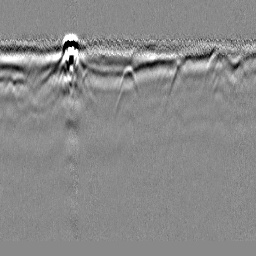cavity: (117, 61, 141, 96)
